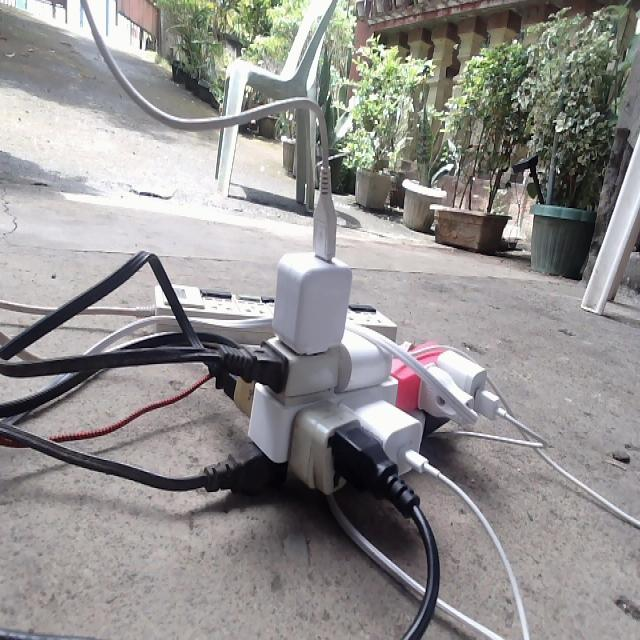-: (200, 168, 510, 515)
